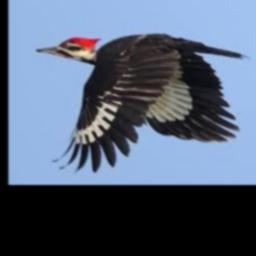Woodpecker: (37, 33, 252, 172)
